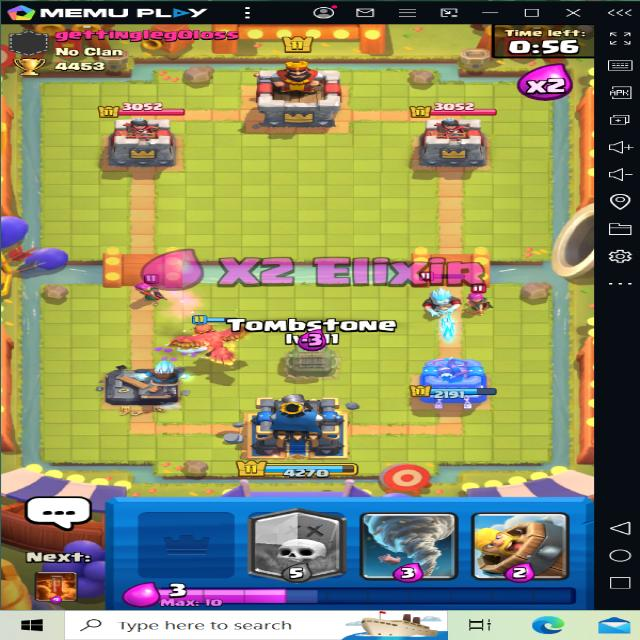archer: (128, 274, 172, 302), (462, 284, 497, 310)
ice-wizard: (413, 273, 476, 324)
